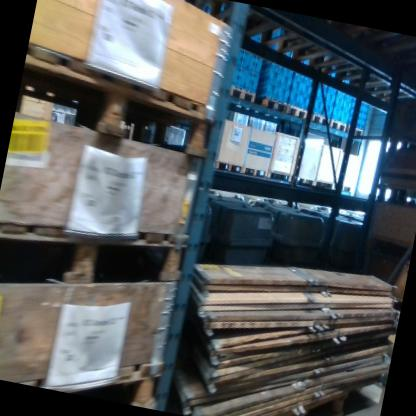pallet: (13, 41, 222, 161), (0, 196, 190, 324), (41, 338, 166, 410), (228, 85, 256, 103), (260, 96, 288, 113), (213, 159, 244, 173), (285, 102, 308, 119), (242, 165, 268, 178), (310, 110, 331, 125), (328, 117, 347, 131), (345, 123, 364, 136)
small_load_carrier: (259, 77, 280, 99), (262, 64, 282, 82), (242, 72, 259, 93), (286, 87, 303, 107), (231, 67, 247, 88), (276, 83, 291, 103), (290, 70, 305, 90), (234, 52, 250, 70), (246, 56, 262, 74), (312, 95, 326, 115), (280, 67, 294, 85), (298, 91, 311, 110), (322, 100, 334, 118), (331, 103, 343, 121), (355, 113, 367, 131), (315, 82, 328, 98), (302, 76, 314, 93), (339, 107, 351, 124), (333, 90, 346, 105), (325, 86, 337, 102), (358, 101, 369, 117), (343, 94, 353, 109)
